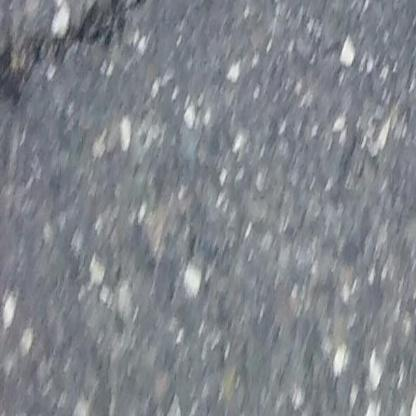Cracks: (0, 0, 154, 110)
